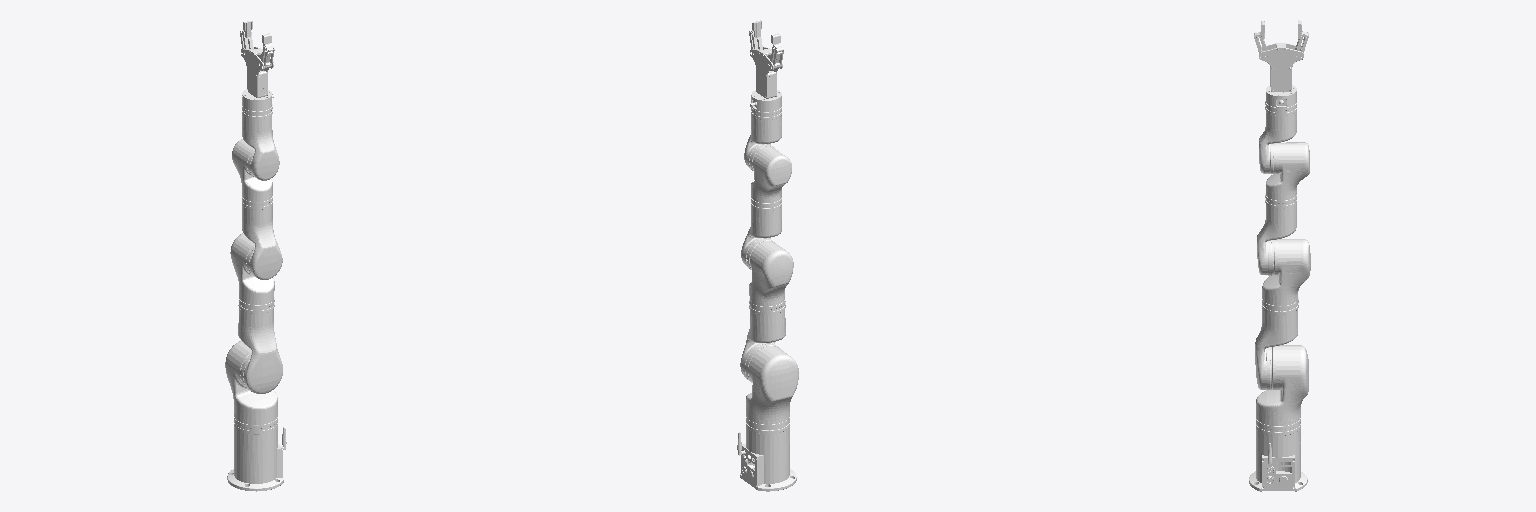
The robot description file, URDF, robot "rm_description":
<robot
  name="rm_description">
  <link
    name="base_link">
    <inertial>
      <origin
        xyz="-0.000109373565465087 -0.000540506855878586 0.0596939182288847"
        rpy="0 0 0" />
      <mass
        value="0.272558169881355" />
      <inertia
        ixx="0.000784258212393038"
        ixy="6.29959493193312E-06"
        ixz="-1.76459744676658E-05"
        iyy="0.000779239170957765"
        iyz="-8.63136641574899E-07"
        izz="0.000487751716575412" />
    </inertial>
    <visual>
      <origin
        xyz="0 0 0"
        rpy="0 0 0" />
      <geometry>
        <mesh
          filename="package://rm_description/meshes/base_link.STL" />
      </geometry>
      <material
        name="">
        <color
          rgba="1 1 1 1" />
      </material>
    </visual>
    <collision>
      <origin
        xyz="0 0 0"
        rpy="0 0 0" />
      <geometry>
        <mesh
          filename="package://rm_description/meshes/base_link.STL" />
      </geometry>
    </collision>
  </link>
  <link
    name="link1">
    <inertial>
      <origin
        xyz="1.03803520729029E-06 -0.0103990426169562 0.0743349525008567"
        rpy="0 0 0" />
      <mass
        value="0.215133901253052" />
      <inertia
        ixx="0.000738411845651515"
        ixy="4.9343358529989E-09"
        ixz="-7.40107563498747E-09"
        iyy="0.000752630863743101"
        iyz="8.29235260567527E-05"
        izz="0.000345883612905226" />
    </inertial>
    <visual>
      <origin
        xyz="0 0 0"
        rpy="0 0 0" />
      <geometry>
        <mesh
          filename="package://rm_description/meshes/link1.STL" />
      </geometry>
      <material
        name="">
        <color
          rgba="1 1 1 1" />
      </material>
    </visual>
    <collision>
      <origin
        xyz="0 0 0"
        rpy="0 0 0" />
      <geometry>
        <mesh
          filename="package://rm_description/meshes/link1.STL" />
      </geometry>
    </collision>
  </link>
  <joint
    name="joint1"
    type="revolute">
    <origin
      xyz="0 0 0.1327"
      rpy="3.4694E-18 2.4378E-13 -3.1416" />
    <parent
      link="base_link" />
    <child
      link="link1" />
    <axis
      xyz="0 0 1" />
    <limit
      lower="-3.05"
      upper="3.05"
      effort="0"
      velocity="0" />
  </joint>
  <link
    name="link2">
    <inertial>
      <origin
        xyz="0.125617616072843 0.00357568268785996 0.0132826613843138"
        rpy="0 0 0" />
      <mass
        value="0.283929826592835" />
      <inertia
        ixx="0.000411191576002741"
        ixy="-6.53114733016414E-05"
        ixz="-0.00050447716245518"
        iyy="0.00271431366843969"
        iyz="-1.42823833900128E-05"
        izz="0.00264679251140964" />
    </inertial>
    <visual>
      <origin
        xyz="0 0 0"
        rpy="0 0 0" />
      <geometry>
        <mesh
          filename="package://rm_description/meshes/link2.STL" />
      </geometry>
      <material
        name="">
        <color
          rgba="1 1 1 1" />
      </material>
    </visual>
    <collision>
      <origin
        xyz="0 0 0"
        rpy="0 0 0" />
      <geometry>
        <mesh
          filename="package://rm_description/meshes/link2.STL" />
      </geometry>
    </collision>
  </link>
  <joint
    name="joint2"
    type="revolute">
    <origin
      xyz="0 0.01355 0.1193"
      rpy="-3.1343 -1.5708 -1.5562" />
    <parent
      link="link1" />
    <child
      link="link2" />
    <axis
      xyz="0 0 1" />
    <limit
      lower="-2"
      upper="2"
      effort="0"
      velocity="0" />
  </joint>
  <link
    name="link3">
    <inertial>
      <origin
        xyz="-2.62322173649743E-07 -0.0531866163941078 0.00185294381389689"
        rpy="0 0 0" />
      <mass
        value="0.111073907035842" />
      <inertia
        ixx="0.00033047679713022"
        ixy="1.31716200247089E-09"
        ixz="-4.56890740152993E-10"
        iyy="0.000104053844810698"
        iyz="7.71086571035923E-05"
        izz="0.000321094433322306" />
    </inertial>
    <visual>
      <origin
        xyz="0 0 0"
        rpy="0 0 0" />
      <geometry>
        <mesh
          filename="package://rm_description/meshes/link3.STL" />
      </geometry>
      <material
        name="">
        <color
          rgba="1 1 1 1" />
      </material>
    </visual>
    <collision>
      <origin
        xyz="0 0 0"
        rpy="0 0 0" />
      <geometry>
        <mesh
          filename="package://rm_description/meshes/link3.STL" />
      </geometry>
    </collision>
  </link>
  <joint
    name="joint3"
    type="revolute">
    <origin
      xyz="0.2464 0.007 0.0015"
      rpy="-1.7347E-18 -5.5511E-17 1.5708" />
    <parent
      link="link2" />
    <child
      link="link3" />
    <axis
      xyz="0 0 1" />
    <limit
      lower="-2"
      upper="2"
      effort="0"
      velocity="0" />
  </joint>
  <link
    name="link4">
    <inertial>
      <origin
        xyz="-1.89389405602647E-07 0.0125575326860273 0.0583180851477226"
        rpy="0 0 0" />
      <mass
        value="0.0997648971440612" />
      <inertia
        ixx="0.000191682166188519"
        ixy="1.01339370300543E-09"
        ixz="8.67961926602371E-10"
        iyy="0.000177823631535319"
        iyz="-2.99893599167277E-05"
        izz="9.86902095260074E-05" />
    </inertial>
    <visual>
      <origin
        xyz="0 0 0"
        rpy="0 0 0" />
      <geometry>
        <mesh
          filename="package://rm_description/meshes/link4.STL" />
      </geometry>
      <material
        name="">
        <color
          rgba="1 1 1 1" />
      </material>
    </visual>
    <collision>
      <origin
        xyz="0 0 0"
        rpy="0 0 0" />
      <geometry>
        <mesh
          filename="package://rm_description/meshes/link4.STL" />
      </geometry>
    </collision>
  </link>
  <joint
    name="joint4"
    type="revolute">
    <origin
      xyz="0 -0.1304 0.01745"
      rpy="1.5708 -5.5511E-17 1.7347E-18" />
    <parent
      link="link3" />
    <child
      link="link4" />
    <axis
      xyz="0 0 1" />
    <limit
      lower="-3.05"
      upper="3.05"
      effort="0"
      velocity="0" />
  </joint>
  <link
    name="link5">
    <inertial>
      <origin
        xyz="-2.3157236272997E-07 -0.0507443613513162 0.00177089430075761"
        rpy="0 0 0" />
      <mass
        value="0.0957664896685306" />
      <inertia
        ixx="0.000228496433142371"
        ixy="-5.7261396795782E-09"
        ixz="1.54923483788963E-09"
        iyy="8.10391564318016E-05"
        iyz="5.22320419179966E-05"
        izz="0.00021939996729031" />
    </inertial>
    <visual>
      <origin
        xyz="0 0 0"
        rpy="0 0 0" />
      <geometry>
        <mesh
          filename="package://rm_description/meshes/link5.STL" />
      </geometry>
      <material
        name="">
        <color
          rgba="1 1 1 1" />
      </material>
    </visual>
    <collision>
      <origin
        xyz="0 0 0"
        rpy="0 0 0" />
      <geometry>
        <mesh
          filename="package://rm_description/meshes/link5.STL" />
      </geometry>
    </collision>
  </link>
  <joint
    name="joint5"
    type="revolute">
    <origin
      xyz="0 -0.0142 0.0872"
      rpy="-1.5708 1.7347E-18 5.5511E-17" />
    <parent
      link="link4" />
    <child
      link="link5" />
    <axis
      xyz="0 0 1" />
    <limit
      lower="-2"
      upper="2"
      effort="0"
      velocity="0" />
  </joint>
  <link
    name="link6">
    <inertial>
      <origin
        xyz="-0.000457792901041587 8.72837963215023E-05 -0.012860781989493"
        rpy="0 0 0" />
      <mass
        value="0.0454115343474848" />
      <inertia
        ixx="1.92594513199535E-05"
        ixy="3.54327832160295E-08"
        ixz="1.83353519645419E-08"
        iyy="1.84993535241476E-05"
        iyz="-4.30694743278975E-08"
        izz="3.03164748974575E-05" />
    </inertial>
    <visual>
      <origin
        xyz="0 0 0"
        rpy="0 0 0" />
      <geometry>
        <mesh
          filename="package://rm_description/meshes/link6.STL" />
      </geometry>
      <material
        name="">
        <color
          rgba="1 1 1 1" />
      </material>
    </visual>
    <collision>
      <origin
        xyz="0 0 0"
        rpy="0 0 0" />
      <geometry>
        <mesh
          filename="package://rm_description/meshes/link6.STL" />
      </geometry>
    </collision>
  </link>
  <joint
    name="joint6"
    type="revolute">
    <origin
      xyz="0 -0.1471 0.0146"
      rpy="1.5708 -7.8126E-13 -2.4378E-13" />
    <parent
      link="link5" />
    <child
      link="link6" />
    <axis
      xyz="0 0 1" />
    <limit
      lower="-6.28"
      upper="6.28"
      effort="0"
      velocity="0" />
  </joint>
  <link
    name="hand">
    <inertial>
      <origin
        xyz="3.68536599532066E-06 1.38476910288565E-05 -0.0635543718731382"
        rpy="0 0 0" />
      <mass
        value="0.082055165002889" />
      <inertia
        ixx="7.75460020380294E-05"
        ixy="5.95576719120136E-09"
        ixz="3.18736283185322E-09"
        iyy="6.74927016477138E-05"
        iyz="1.52185606100357E-08"
        izz="2.37834843803893E-05" />
    </inertial>
    <visual>
      <origin
        xyz="0 0 0"
        rpy="0 0 0" />
      <geometry>
        <mesh
          filename="package://rm_description/meshes/hand.STL" />
      </geometry>
      <material
        name="">
        <color
          rgba="1 1 1 1" />
      </material>
    </visual>
    <collision>
      <origin
        xyz="0 0 0"
        rpy="0 0 0" />
      <geometry>
        <mesh
          filename="package://rm_description/meshes/hand.STL" />
      </geometry>
    </collision>
  </link>
  <joint
    name="hand_joint"
    type="fixed">
    <origin
      xyz="0 0 0.1"
      rpy="-1.7347E-18 2.4378E-13 -7.8121E-13" />
    <parent
      link="link6" />
    <child
      link="hand" />
    <axis
      xyz="0 0 0" />
  </joint>
  <link
    name="left_gripper">
    <inertial>
      <origin
        xyz="1.18772258694833E-09 -0.0385742590736997 0.013272877911639"
        rpy="0 0 0" />
      <mass
        value="0.0109461974636394" />
      <inertia
        ixx="5.17437903546281E-06"
        ixy="1.75385234924992E-13"
        ixz="-1.35251319790756E-13"
        iyy="5.12956285880332E-06"
        iyz="2.7509204694877E-07"
        izz="6.91852711687168E-07" />
    </inertial>
    <visual>
      <origin
        xyz="0 0 0"
        rpy="0 0 0" />
      <geometry>
        <mesh
          filename="package://rm_description/meshes/left_gripper.STL" />
      </geometry>
      <material
        name="">
        <color
          rgba="1 1 1 1" />
      </material>
    </visual>
    <collision>
      <origin
        xyz="0 0 0"
        rpy="0 0 0" />
      <geometry>
        <mesh
          filename="package://rm_description/meshes/left_gripper.STL" />
      </geometry>
    </collision>
  </link>
  <joint
    name="left_gripper_joint"
    type="fixed">
    <origin
      xyz="0 0 0"
      rpy="-3.4694E-18 1.7347E-18 5.5511E-17" />
    <parent
      link="hand" />
    <child
      link="left_gripper" />
    <axis
      xyz="0 0 0" />
    <limit
      lower="-0.4"
      upper="0"
      effort="0"
      velocity="0" />
  </joint>
  <link
    name="right_gripper">
    <inertial>
      <origin
        xyz="7.21624926480757E-10 0.0385742637249681 0.0132728826799009"
        rpy="0 0 0" />
      <mass
        value="0.010946201175683" />
      <inertia
        ixx="5.17438056395939E-06"
        ixy="-4.42075998881688E-14"
        ixz="-9.3204048470003E-14"
        iyy="5.12956362052274E-06"
        iyz="-2.75092652786187E-07"
        izz="6.91853570150896E-07" />
    </inertial>
    <visual>
      <origin
        xyz="0 0 0"
        rpy="0 0 0" />
      <geometry>
        <mesh
          filename="package://rm_description/meshes/right_gripper.STL" />
      </geometry>
      <material
        name="">
        <color
          rgba="1 1 1 1" />
      </material>
    </visual>
    <collision>
      <origin
        xyz="0 0 0"
        rpy="0 0 0" />
      <geometry>
        <mesh
          filename="package://rm_description/meshes/right_gripper.STL" />
      </geometry>
    </collision>
  </link>
  <joint
    name="right_gripper_joint"
    type="fixed">
    <origin
      xyz="0 0 0"
      rpy="-3.4694E-18 1.7347E-18 5.5511E-17" />
    <parent
      link="hand" />
    <child
      link="right_gripper" />
    <axis
      xyz="0 0 0" />
    <limit
      lower="0"
      upper="0.4"
      effort="0"
      velocity="0" />
  </joint>
</robot>

--- Facts derived from the render (not from the file) ---
3 views of the same robot in one strip: view 1: azimuth 30°, elevation 25°; view 2: azimuth 210°, elevation 25°; view 3: azimuth 270°, elevation 25° (orthographic).
Model rm_description with 10 links and 9 joints (6 revolute, 3 fixed), rooted at base_link, posed all joints at 0.
Visible links, largest first — view 1: link2, base_link, link1, link3, link5, link4, hand; view 2: link2, link1, base_link, link4, link3, hand, link5; view 3: link2, link1, base_link, link4, link3, hand, link5.
Link boxes in pixels (bbox=[...]): link2: bbox=[230, 233, 282, 393]; base_link: bbox=[227, 422, 286, 491]; link1: bbox=[225, 341, 277, 429]; link3: bbox=[242, 200, 282, 279]; link5: bbox=[242, 109, 279, 180]; link4: bbox=[232, 139, 272, 205]; hand: bbox=[241, 47, 273, 101]; link2: bbox=[740, 239, 793, 379]; link1: bbox=[746, 344, 798, 428]; base_link: bbox=[737, 422, 796, 491]; link4: bbox=[750, 145, 791, 206]; link3: bbox=[741, 201, 781, 269]; hand: bbox=[750, 47, 782, 101]; link5: bbox=[744, 110, 781, 170]; link2: bbox=[1255, 239, 1310, 389]; link1: bbox=[1256, 345, 1308, 430]; base_link: bbox=[1249, 423, 1307, 491]; link4: bbox=[1265, 142, 1309, 203]; link3: bbox=[1257, 198, 1296, 275]; hand: bbox=[1259, 43, 1303, 97]; link5: bbox=[1259, 106, 1296, 173].
Size in the robot's own frame: 0.1205 by 0.1235 by 1.01 metres.
Meshes: 10 distinct files referenced, 10 mesh visuals loaded (10 binary STL).